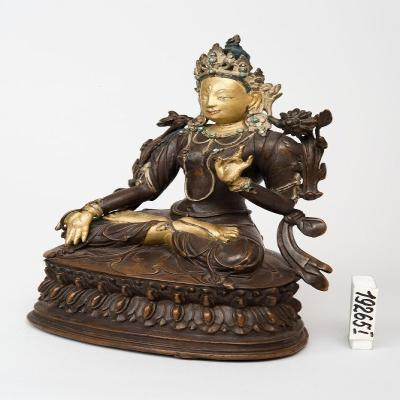sculpture: (26, 35, 333, 364)
